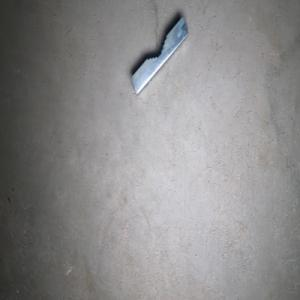ClampPart: (130, 15, 189, 95)
